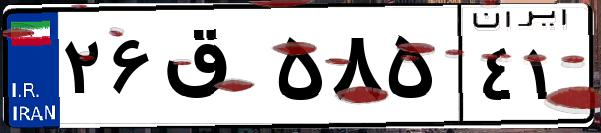1: (525, 38, 570, 115)
2: (57, 26, 110, 100)
4: (475, 38, 525, 113)
5: (270, 28, 330, 110), (385, 28, 445, 110)
6: (110, 28, 158, 98)
8: (330, 28, 385, 110)
ق: (158, 20, 270, 120)
